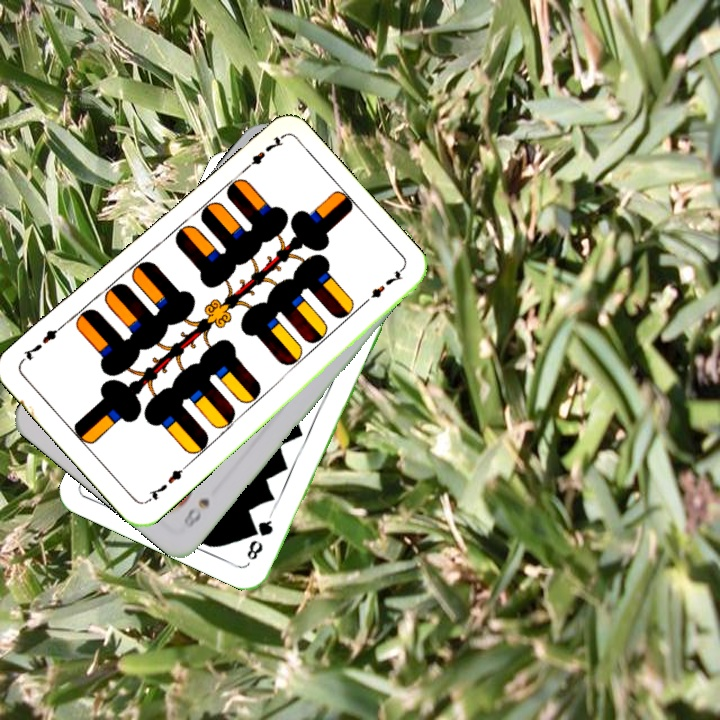E7: (236, 132, 286, 177), (142, 461, 190, 505)
G8: (242, 510, 276, 563)
S8: (179, 494, 213, 531)
